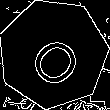O_NE: (20, 21, 87, 87)
